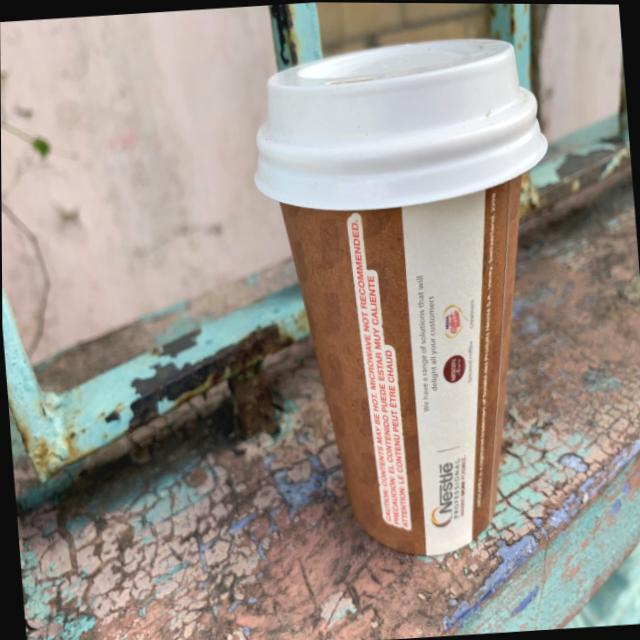Cup: (240, 13, 583, 587)
